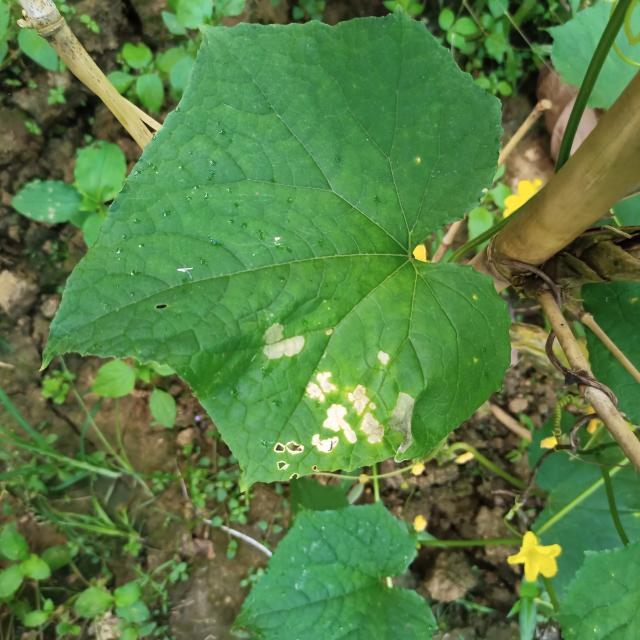disease_cucumber: (272, 367, 413, 468), (260, 321, 308, 362), (374, 349, 392, 372)
